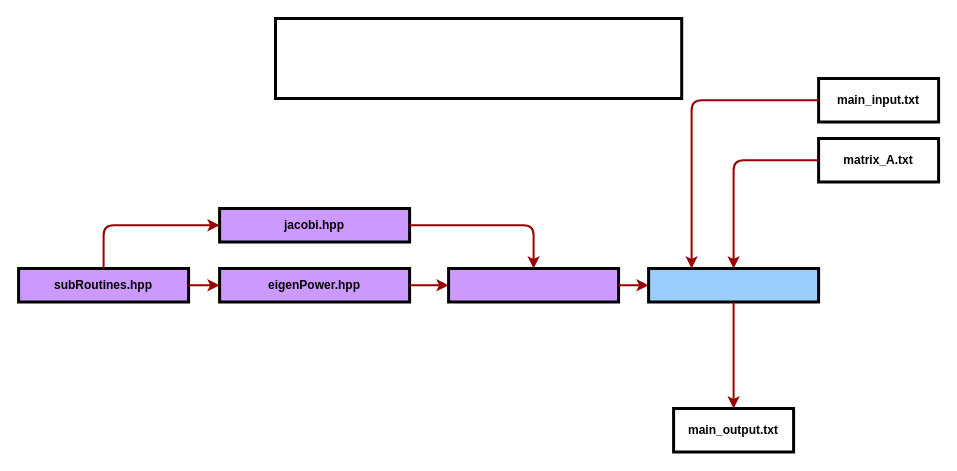
Image size: 957x471. Some labels were removed from this diagram. The centre of each missing label's shape, as x and y in pixels:
Arquitetura Task2: the point at 478,58
routines.hpp: the point at 533,284
task2.cpp: the point at 733,284
